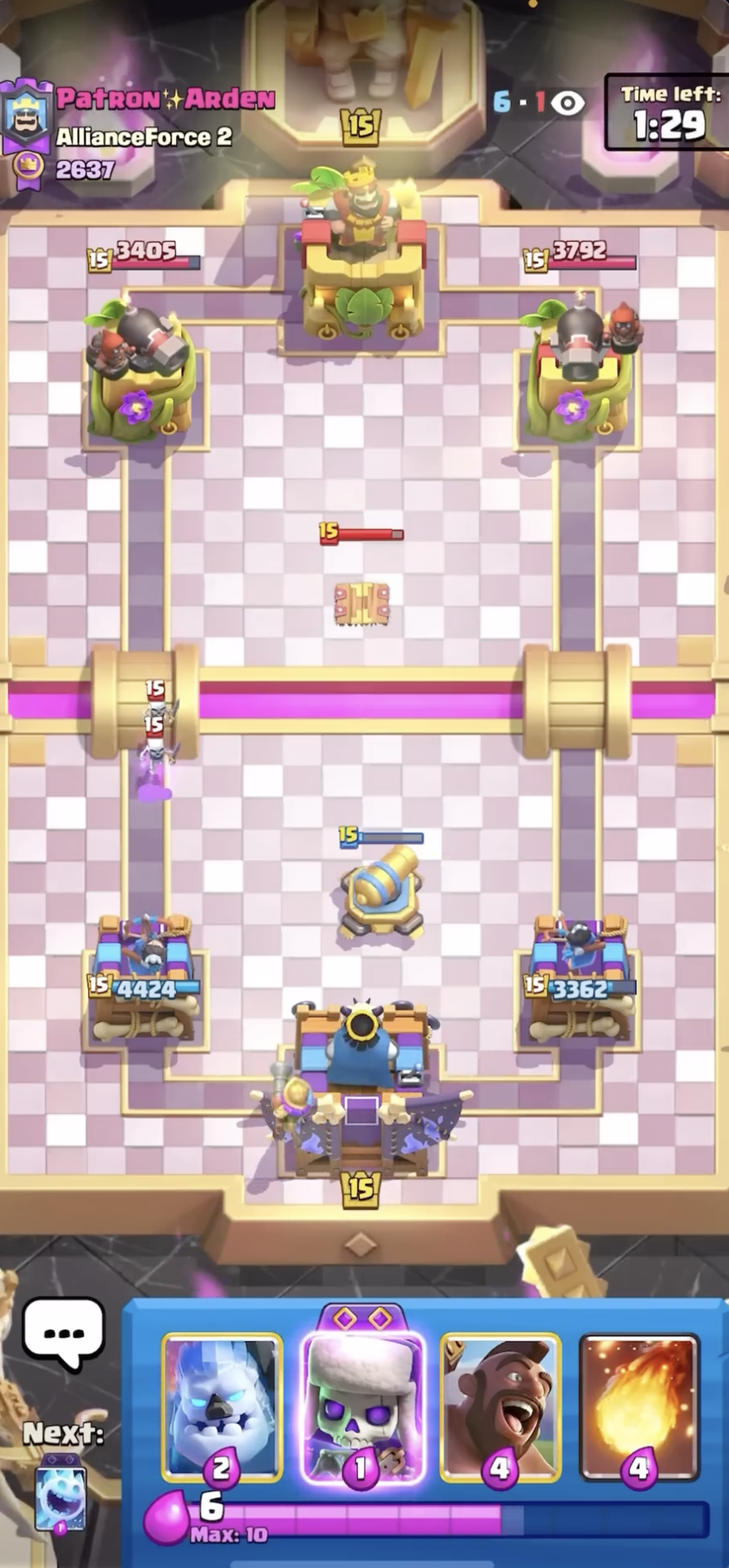cannon: (326, 813, 448, 940)
